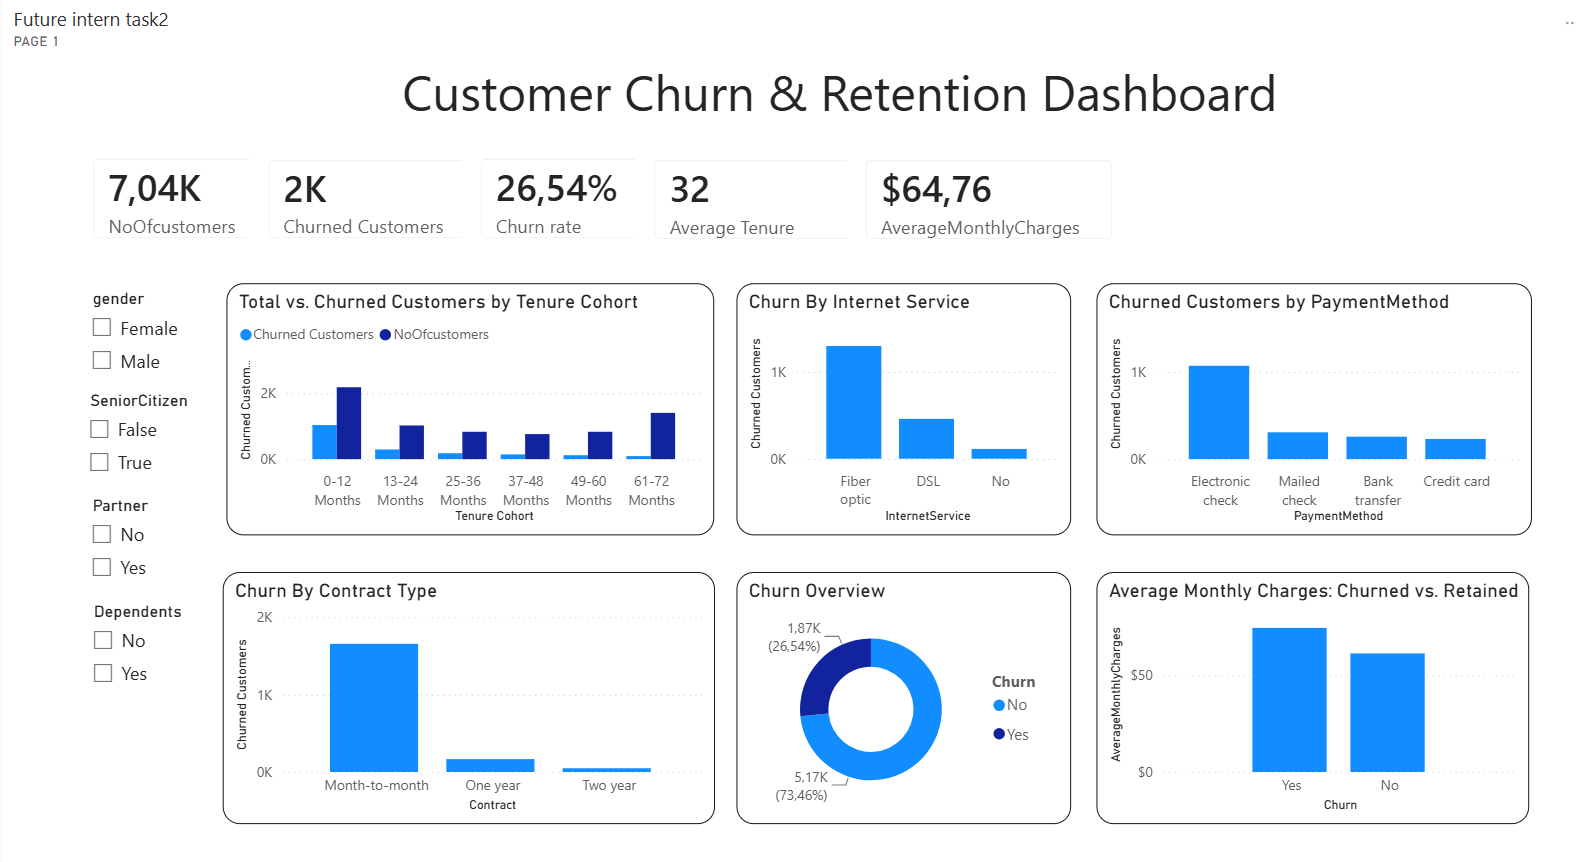

What the dashboard file says about the page in this screenshot:
{"tool":"powerbi","page":{"name":"Page 1","canvas":[1280,720],"ordinal":0},"visuals":[{"type":"cardVisual","fields":{"Data":["churn.No of customers"]},"box":[0,76.4,300.3,103.7],"z":0},{"type":"cardVisual","fields":{"Data":["churn.Churned Customers"]},"box":[152.9,77.8,300.3,102.4],"z":1000},{"type":"cardVisual","fields":{"Data":["churn.Churn rate"]},"box":[338.5,76.4,301.6,103.7],"z":2000},{"type":"cardVisual","fields":{"Data":["churn.Average Tenure"]},"box":[490,77.8,303,103.7],"z":3000},{"type":"clusteredColumnChart","title":"Total vs. Churned Customers by Tenure Cohort","fields":{"Category":["churn.Tenure Cohort"],"Y":["churn.Churned Customers","churn.NoOfcustomers"]},"box":[133.3,201.8,425.5,220.1],"z":4000},{"type":"clusteredColumnChart","title":"Churn By Contract Type","fields":{"Y":["churn.Churned Customers"],"Category":["churn.Contract"]},"box":[129.6,453.7,429.2,220.1],"z":5000},{"type":"columnChart","title":"Churn By Internet Service","fields":{"Category":["churn.InternetService"],"Y":["churn.Churned Customers"]},"box":[578.7,202,292.1,219.7],"z":6000},{"type":"columnChart","fields":{"Y":["churn.Churned Customers"],"Category":["churn.PaymentMethod"]},"box":[892.7,201.8,380.3,220.1],"z":7000},{"type":"slicer","fields":{"Values":["churn.gender"]},"box":[3.7,201.8,117.4,99],"z":8000},{"type":"slicer","fields":{"Values":["churn.SeniorCitizen"]},"box":[1.2,289.8,128.4,91.7],"z":9000},{"type":"slicer","fields":{"Values":["churn.Partner"]},"box":[3.7,381.5,117.4,92.9],"z":10000},{"type":"slicer","fields":{"Values":["churn.Dependents"]},"box":[4.9,474.5,116.2,92.9],"z":11000},{"type":"donutChart","title":"Churn Overview","fields":{"Category":["churn.Churn"],"Y":["churn.No of customers"]},"box":[578.4,453.7,292.3,220.1],"z":12000},{"type":"textbox","box":[281.3,0,789.9,77],"z":13000},{"type":"cardVisual","fields":{"Data":["churn.AverageMonthlyCharges"]},"box":[674.3,77.8,249.8,103.7],"z":14000},{"type":"columnChart","title":"Average Monthly Charges: Churned vs. Retained","fields":{"Y":["churn.AverageMonthlyCharges"],"Category":["churn.Churn"]},"box":[892.7,453.7,377.9,220.1],"z":15000}]}

Visuals, with their boxes in screenshot pixels (x1, y1, x2, y2), scaled from the page's 1280x720 canvas onto the 1576x862 screenshot:
cardVisual - churn.No of customers: [left=0, top=91, right=370, bottom=216]
cardVisual - churn.Churned Customers: [left=188, top=93, right=558, bottom=216]
cardVisual - churn.Churn rate: [left=417, top=91, right=788, bottom=216]
cardVisual - churn.Average Tenure: [left=603, top=93, right=976, bottom=217]
"Total vs. Churned Customers by Tenure Cohort" clusteredColumnChart: [left=164, top=242, right=688, bottom=505]
"Churn By Contract Type" clusteredColumnChart: [left=160, top=543, right=688, bottom=807]
"Churn By Internet Service" columnChart: [left=713, top=242, right=1072, bottom=505]
columnChart - churn.Churned Customers x churn.PaymentMethod: [left=1099, top=242, right=1567, bottom=505]
slicer - churn.gender: [left=5, top=242, right=149, bottom=360]
slicer - churn.SeniorCitizen: [left=1, top=347, right=160, bottom=457]
slicer - churn.Partner: [left=5, top=457, right=149, bottom=568]
slicer - churn.Dependents: [left=6, top=568, right=149, bottom=679]
"Churn Overview" donutChart: [left=712, top=543, right=1072, bottom=807]
textbox: [left=346, top=0, right=1319, bottom=92]
cardVisual - churn.AverageMonthlyCharges: [left=830, top=93, right=1138, bottom=217]
"Average Monthly Charges: Churned vs. Retained" columnChart: [left=1099, top=543, right=1564, bottom=807]
